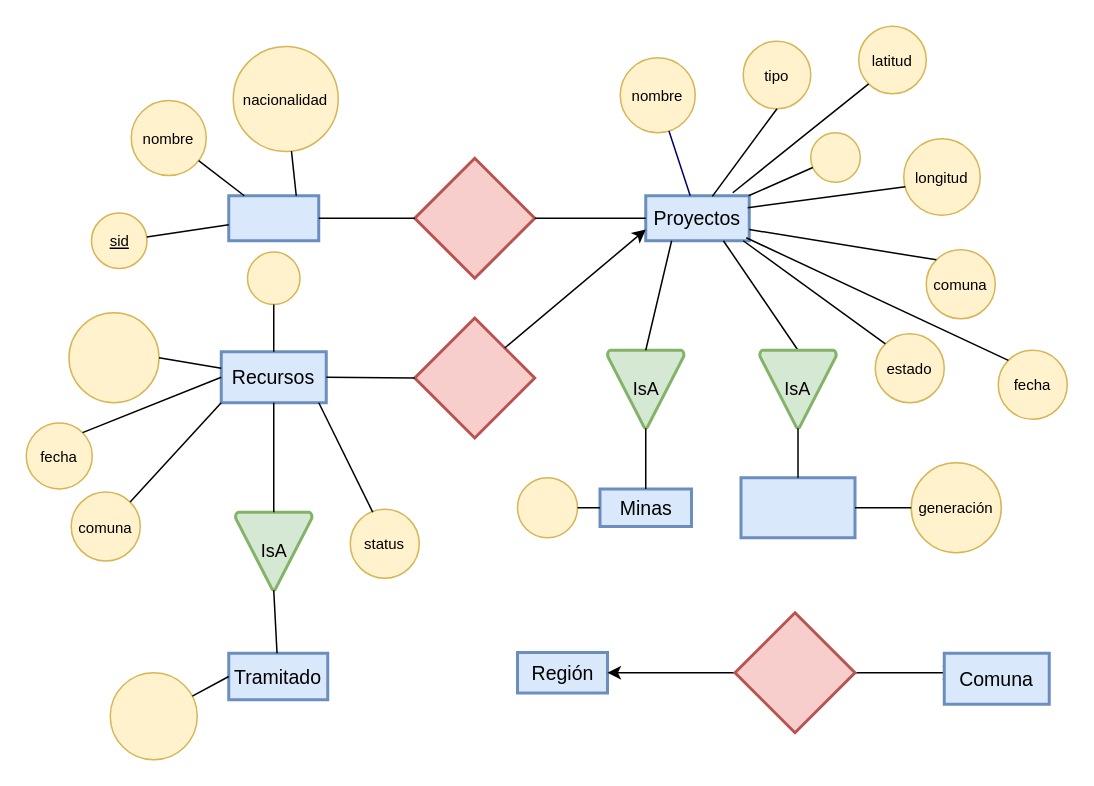
Some shapes in this 1094 by 786 pixel diagram are drawn without their labels. Each missing label, with the centre of its shape:
Asociado: (x=474, y=377)
causa: (x=273, y=277)
Centrales Eléctricas: (x=797, y=507)
Dentro: (x=794, y=672)
descripción: (x=113, y=357)
fecha_tram: (x=153, y=715)
Involucrado: (x=474, y=217)
mineral: (x=547, y=507)
pid: (x=834, y=156)
Socios: (x=273, y=218)
